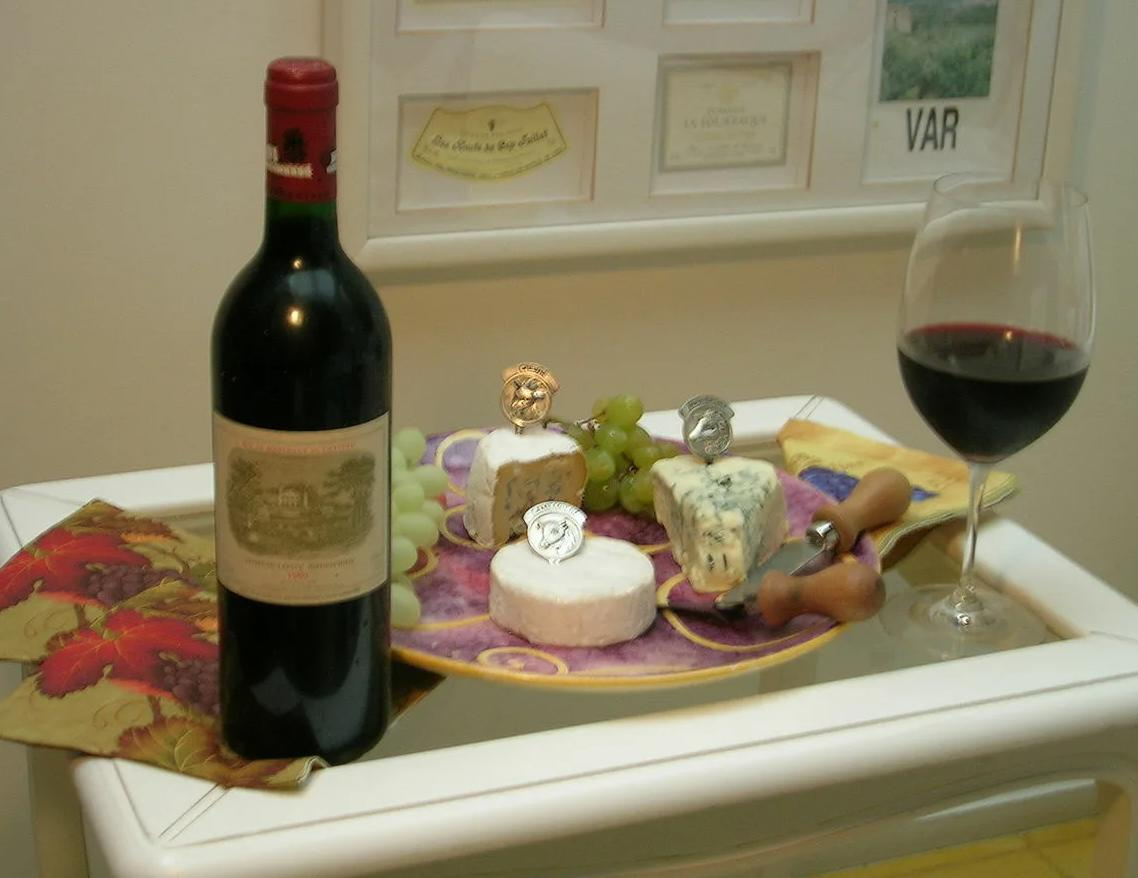wine bottle: (209, 53, 392, 764)
wine label: (214, 407, 390, 604)
